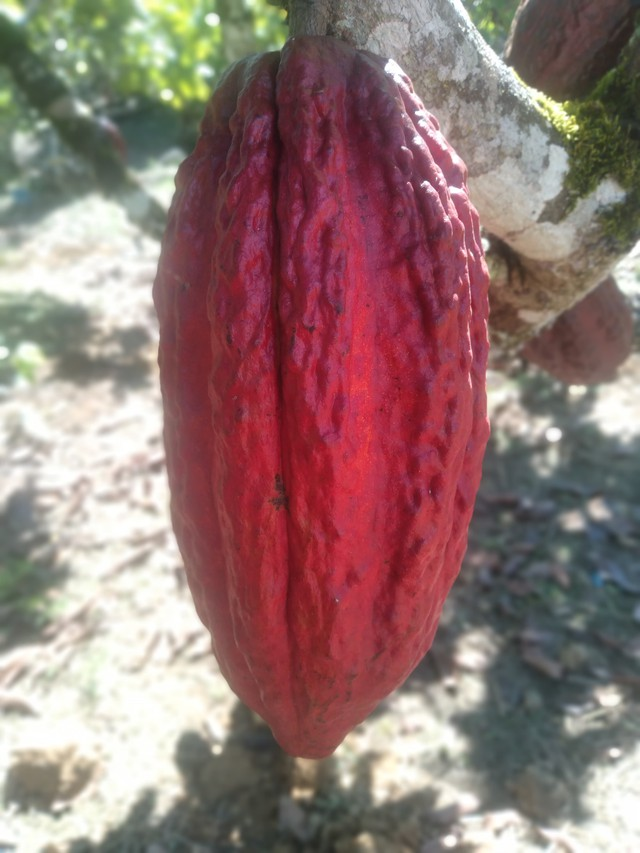Health: (126, 22, 511, 768)
